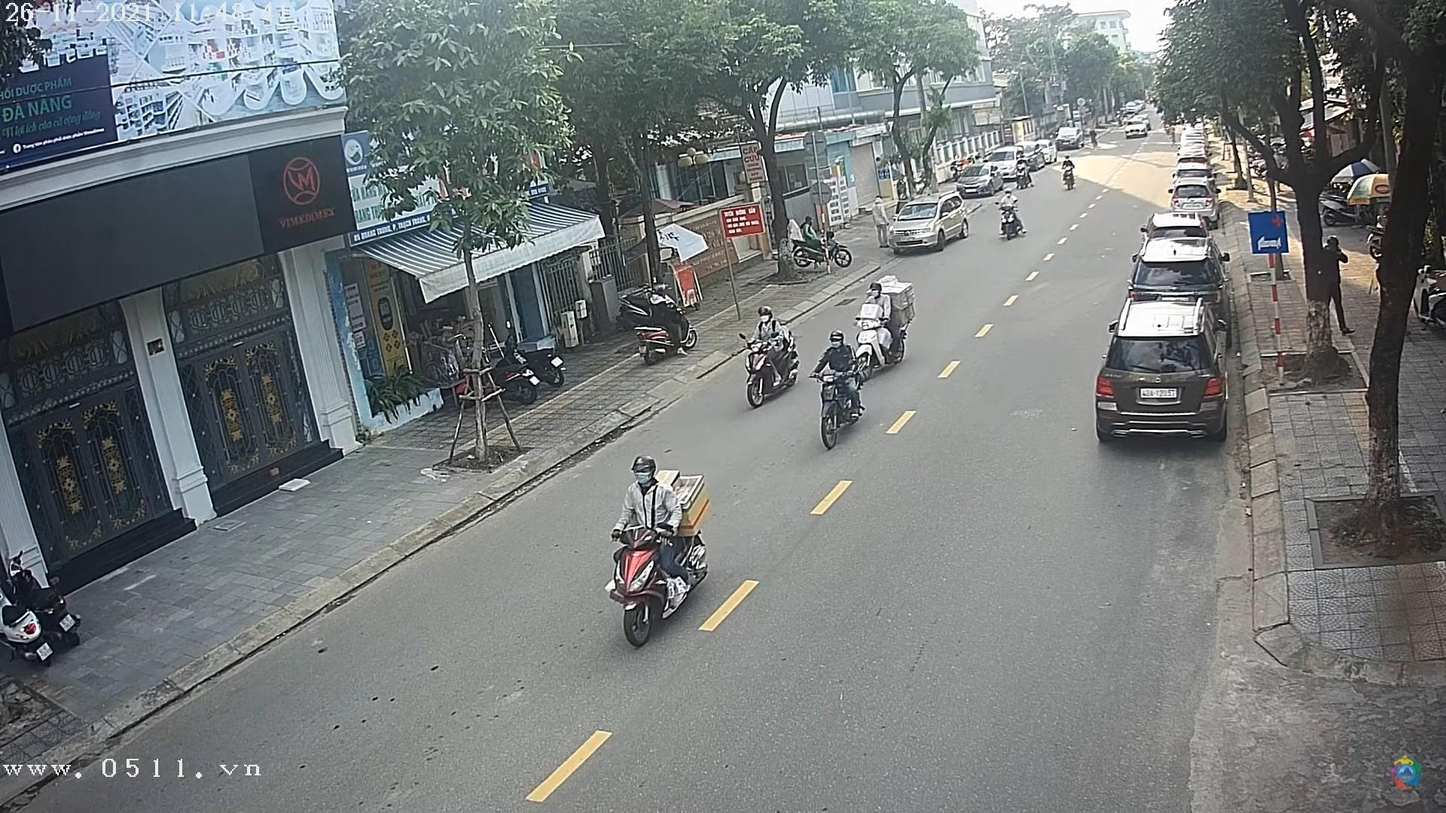car: (882, 196, 973, 255), (957, 161, 1013, 196), (1126, 122, 1152, 137)
motorbike: (605, 522, 707, 649), (746, 330, 802, 411), (815, 364, 868, 449), (853, 315, 912, 381), (993, 203, 1028, 242)
